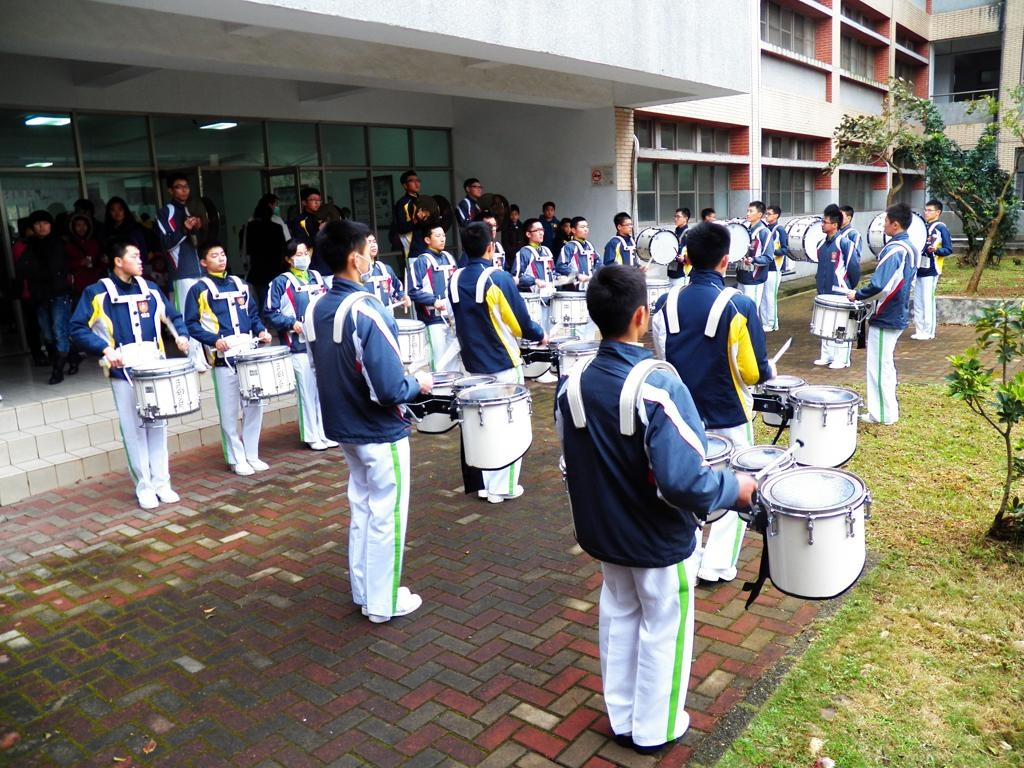human_face: (120, 243, 144, 274), (360, 237, 376, 278), (204, 247, 228, 271), (290, 246, 310, 268), (430, 225, 444, 251), (172, 180, 190, 200), (480, 216, 496, 238), (528, 222, 544, 242), (364, 234, 378, 256), (110, 201, 124, 220), (33, 220, 51, 234), (406, 174, 420, 192), (74, 220, 90, 234), (575, 223, 589, 239), (308, 193, 320, 211), (820, 214, 832, 231), (622, 216, 632, 234), (746, 204, 756, 222), (884, 212, 892, 234), (471, 180, 481, 195), (673, 210, 683, 224), (764, 208, 774, 222), (924, 204, 934, 218), (562, 222, 572, 234), (154, 259, 164, 271), (708, 214, 716, 228), (508, 209, 518, 219), (544, 206, 554, 216), (272, 198, 278, 214)
